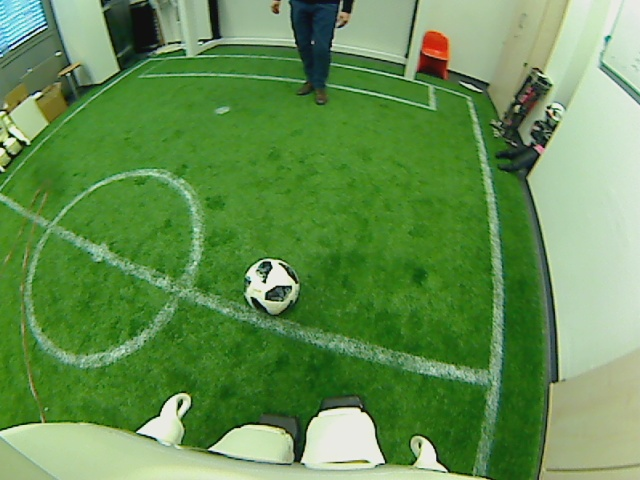ball: (240, 257, 302, 317)
